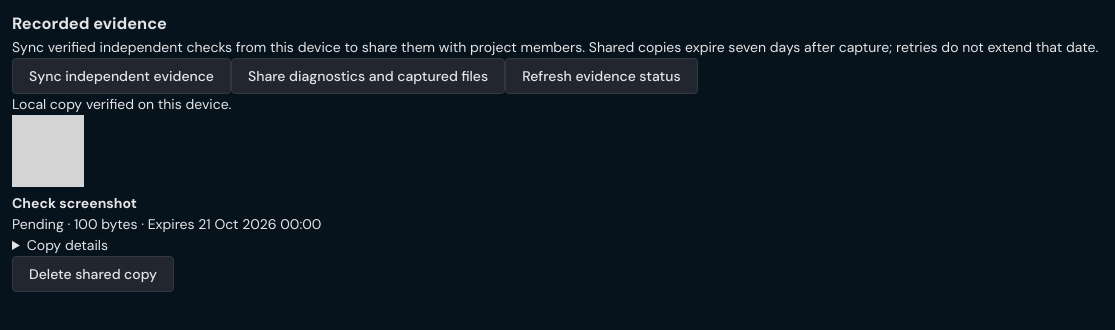
Private Run evidence availability › retains honest pending state after a failed sync so the operator can retry
Click the button "Sync independent evidence": (122, 76) [12,58,231,94]
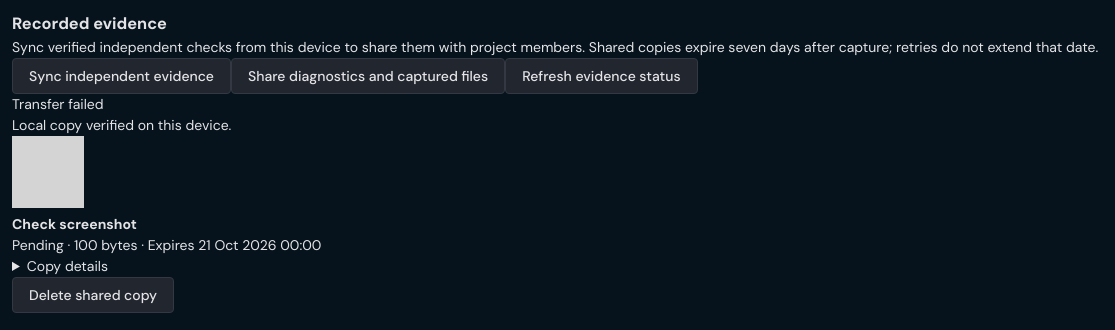
expect the text "Pending · 100 bytes · Expires 21 Oct 2026 00:00" is shown: met, box [12,236,321,254]
expect the message "Transfer failed" is shown: met, box [12,95,104,113]
